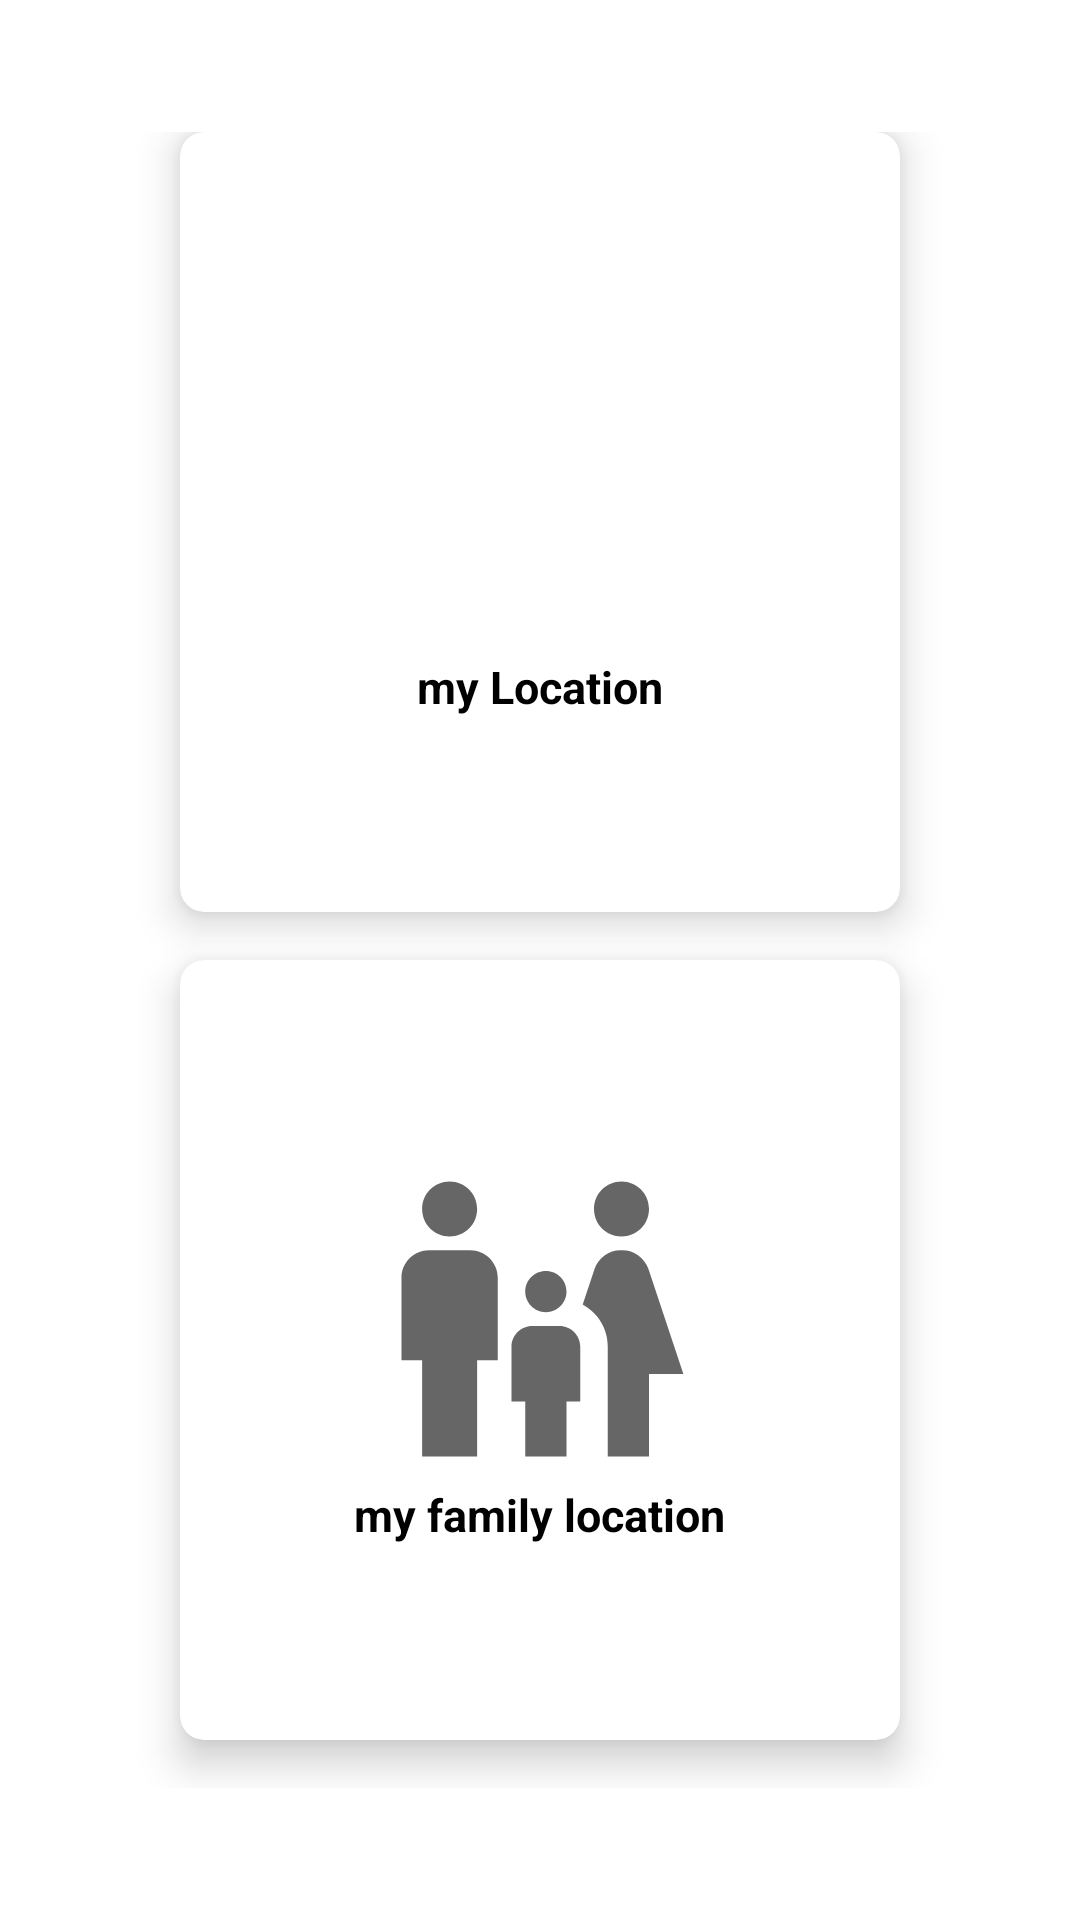

Icon click points for this 1080px x 1920px phone screenshot, format (x=x, y=y):
family restroom: (x=542, y=1319)
